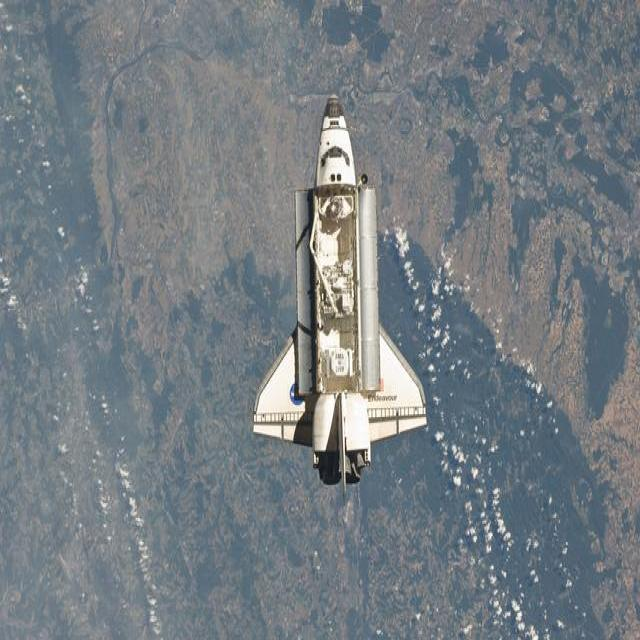satellite: (254, 96, 426, 486)
